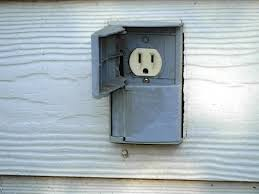outlet: (136, 51, 156, 74)
